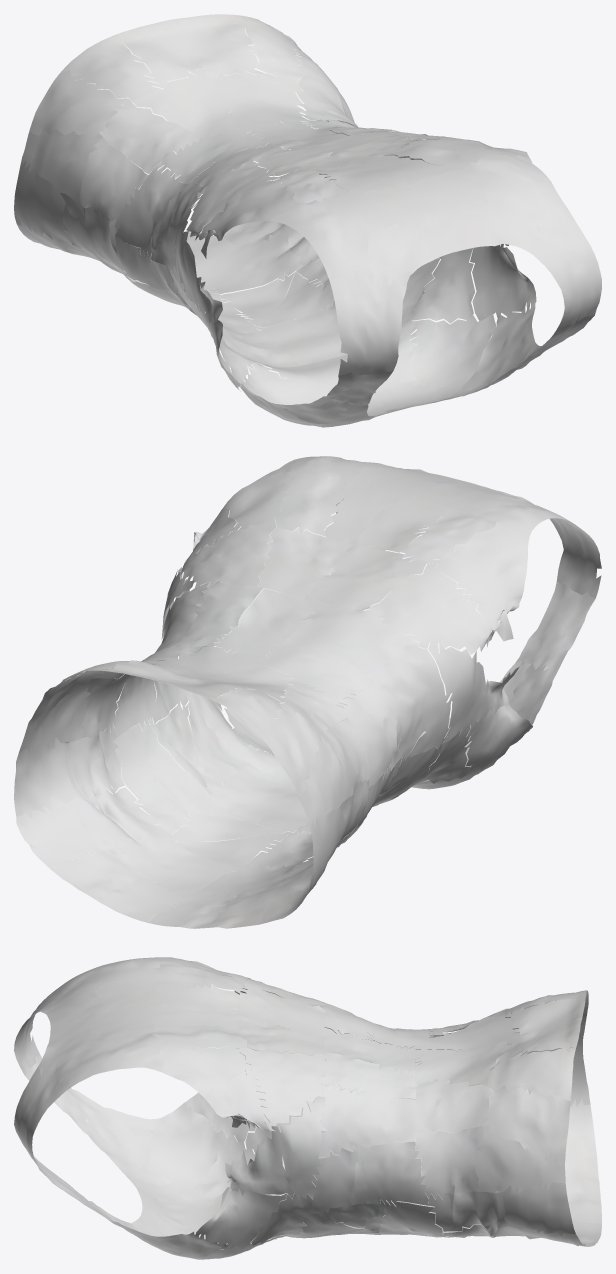
The model's file is adult-base-01.glb.
The picture shows the model from 3 angles, top to bottom: view 1: azimuth 30°, elevation 25°; view 2: azimuth 150°, elevation 25°; view 3: azimuth 270°, elevation 25°; orthographic projection. The views are drawn at different scales.
Parts seen in each view (by area): view 1: geometry_0; view 2: geometry_0; view 3: geometry_0.
Part boxes in pixels (x1,y1,x2,y2): geometry_0: (14, 14, 601, 427); geometry_0: (14, 456, 601, 928); geometry_0: (14, 957, 601, 1259).
Size of the model in its own units: 0.00396 by 0.00296 by 0.007.
1 material, 1 textured.
